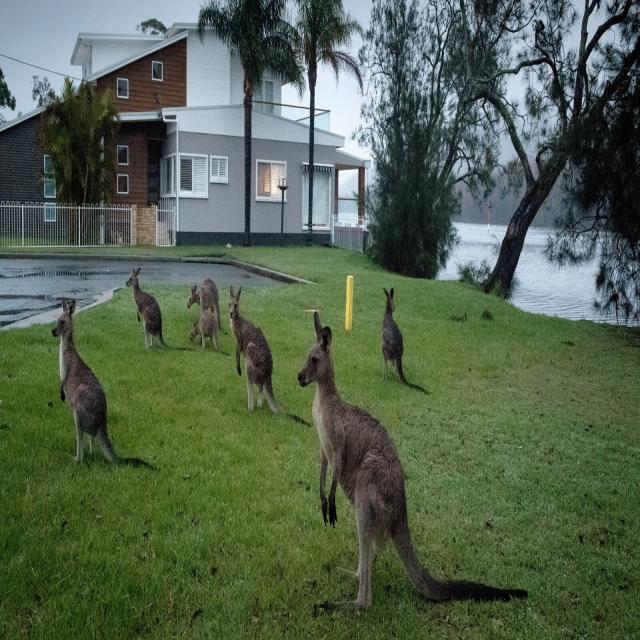Kangaroo: (295, 304, 532, 622), (46, 290, 161, 482), (226, 282, 312, 448), (378, 276, 434, 400), (120, 255, 174, 365), (182, 266, 224, 328), (188, 308, 225, 352)
